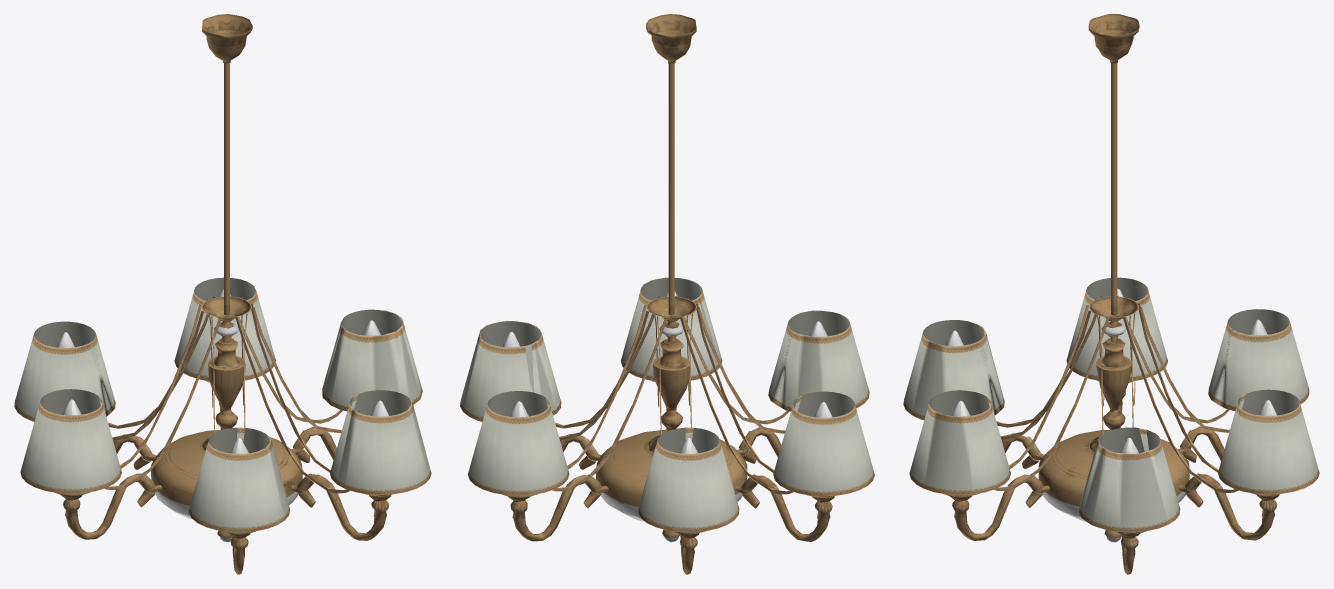
File: chandelier.glb
3 views of the same model, side by side, from view 1: azimuth 30°, elevation 25°; view 2: azimuth 150°, elevation 25°; view 3: azimuth 270°, elevation 25° (orthographic).
Visible parts, largest first — view 1: Chandelier_02; view 2: Chandelier_02; view 3: Chandelier_02.
Boxes of the visible parts, box(x1,y1,x2,y2) form: Chandelier_02: box(14, 14, 431, 574); Chandelier_02: box(460, 14, 874, 574); Chandelier_02: box(903, 14, 1319, 574).
Size of the model in its own units: 0.6788 by 0.8481 by 0.619.
Materials: 2 (1 with a texture image).
